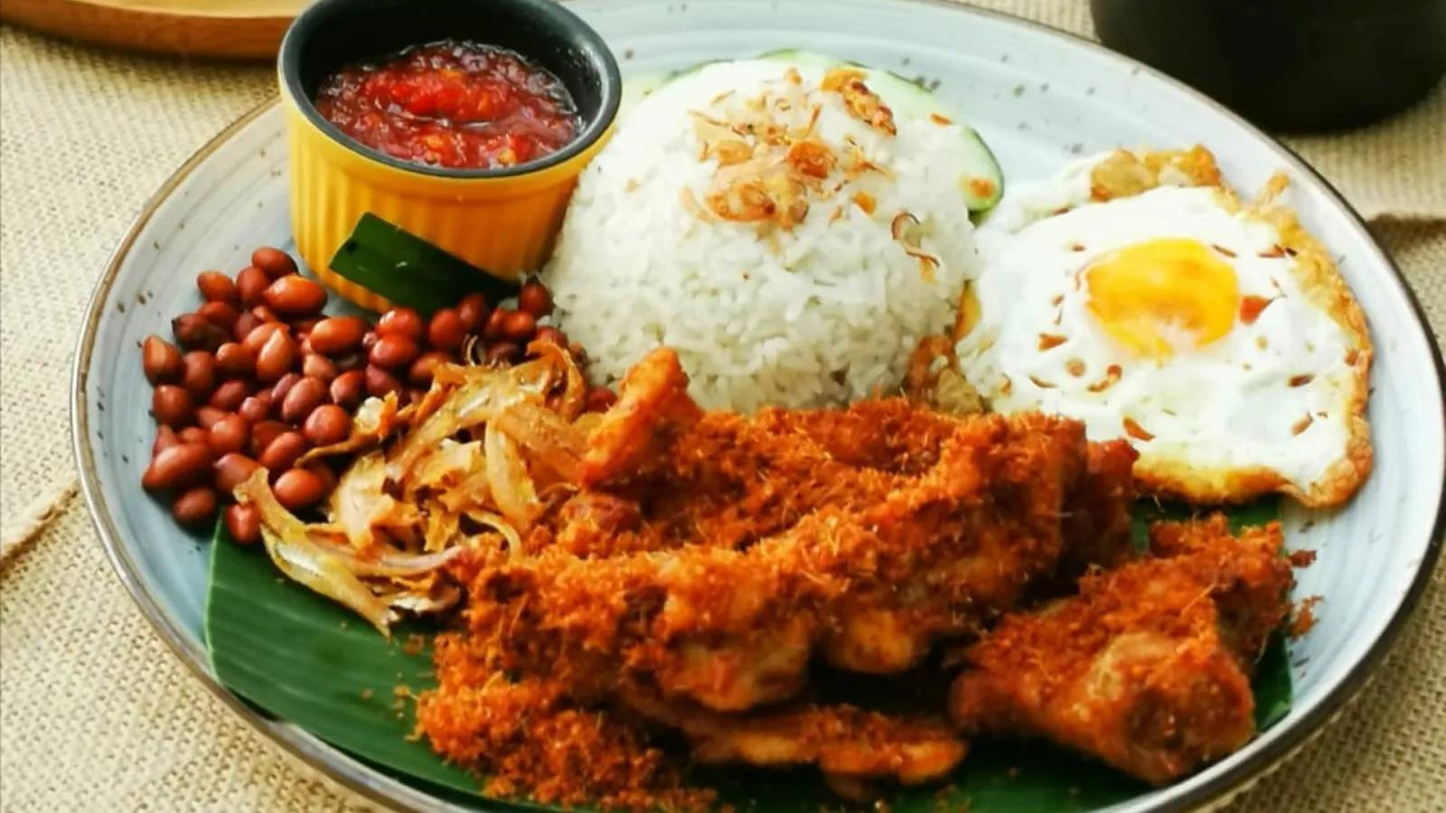Anchovies: (268, 350, 583, 625)
Cucumber: (949, 121, 1007, 225)
Fried-Chicken: (412, 356, 1284, 808)
Fried-Egg: (970, 149, 1374, 509)
Peanuts: (143, 248, 553, 544)
Rice: (539, 54, 970, 409)
Sambal: (327, 45, 577, 171)
